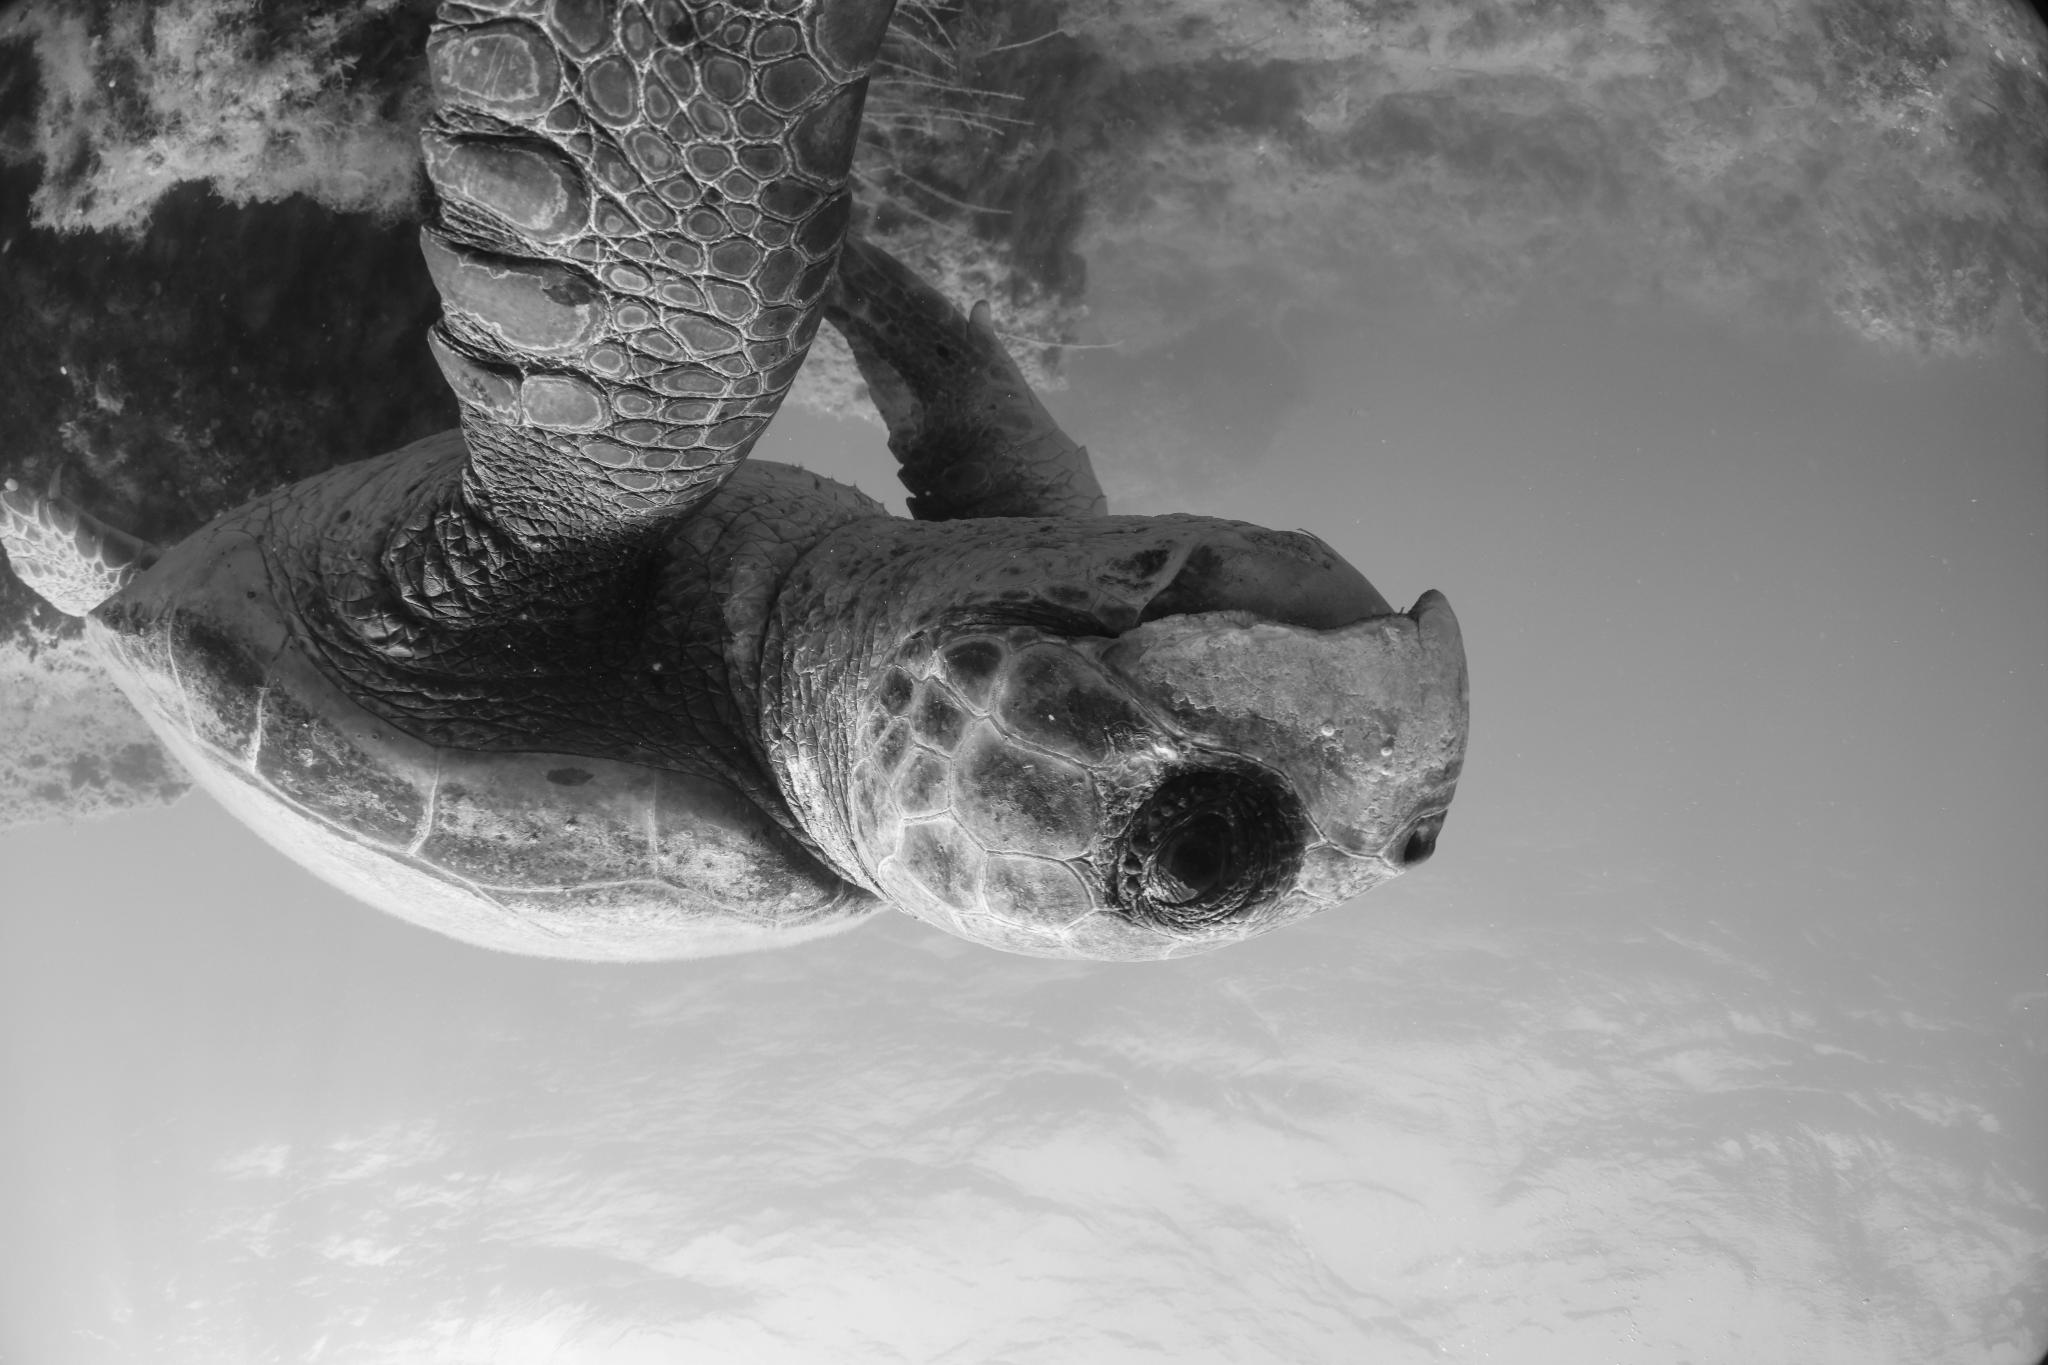Head: (793, 515, 1469, 959)
